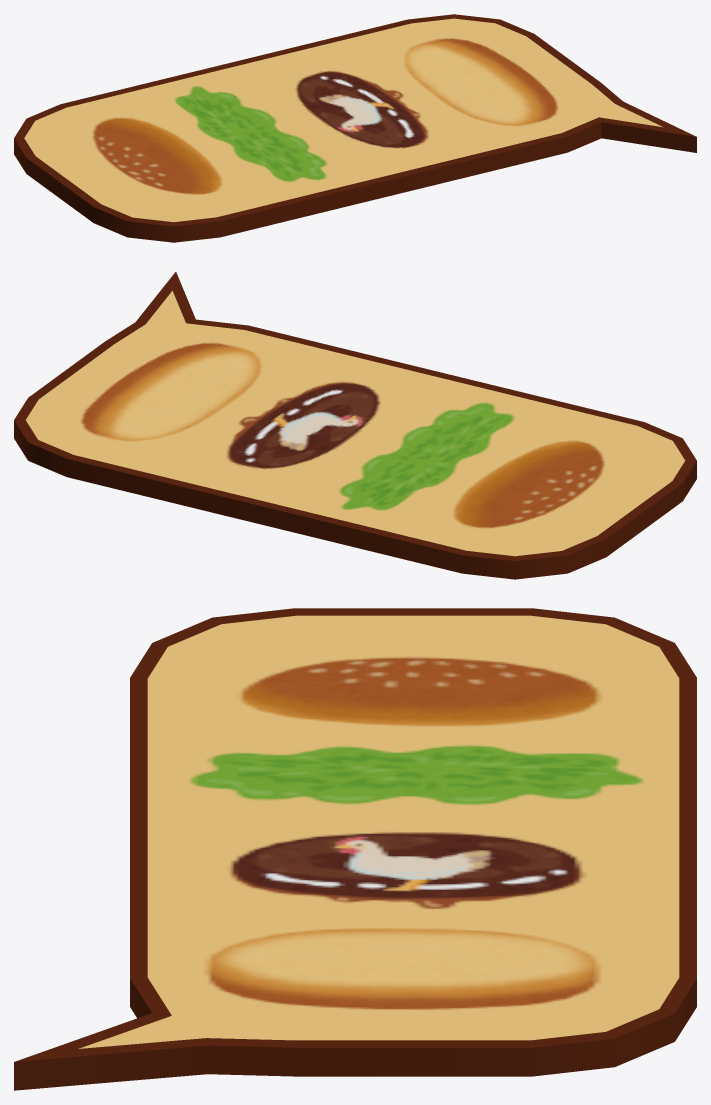
The model's file is Single Topping Orders.fbx.
3 views of the same model, one above another, from view 1: azimuth 30°, elevation 25°; view 2: azimuth 150°, elevation 25°; view 3: azimuth 270°, elevation 25° (orthographic). The views are drawn at different scales.
Visible parts, largest first — view 1: single order; view 2: single order; view 3: single order.
Boxes of the visible parts, x1,y1,x2,y2 form: single order: [14, 14, 696, 242]; single order: [14, 272, 696, 579]; single order: [14, 608, 696, 1090].
Size of the model in its own units: 206 by 6.09 by 131.
